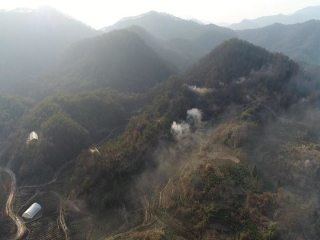smoke: (169, 107, 207, 142), (180, 81, 218, 97)
